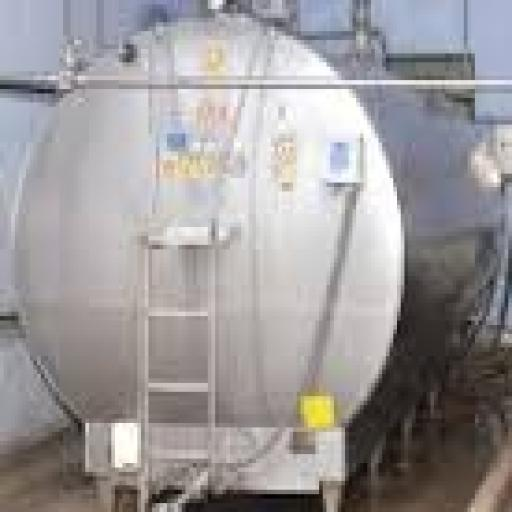silo: (1, 12, 503, 483)
